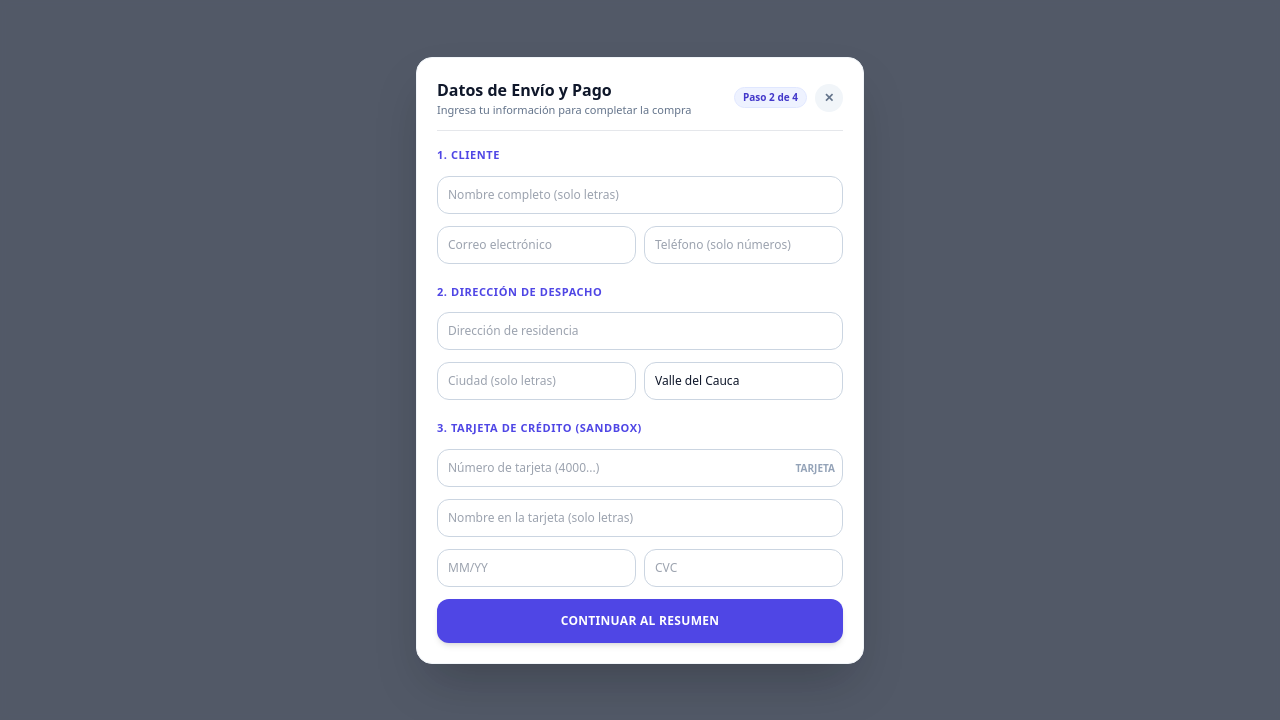
Test: StepCreditCardModal - Formulario de Pago y Envío › debe detectar la franquicia VISA al ingresar un número que comience por 4
The image size is (1280, 720).
Type "4242424242424242" into the field with placeholder "Número de tarjeta (4000...)".
click(640, 468); type("4242424242424242")  # box [437,448,843,486]
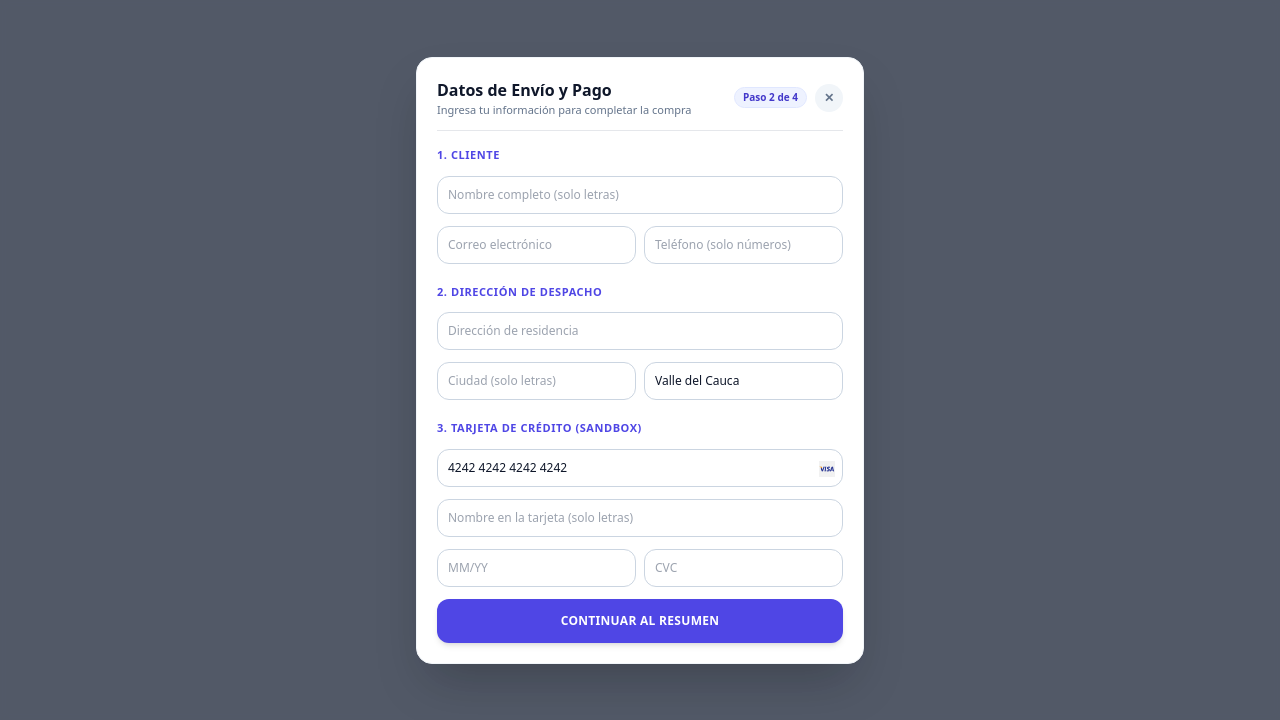
Check: the picture with alt text "Visa" is shown, box [819,460,835,476]
